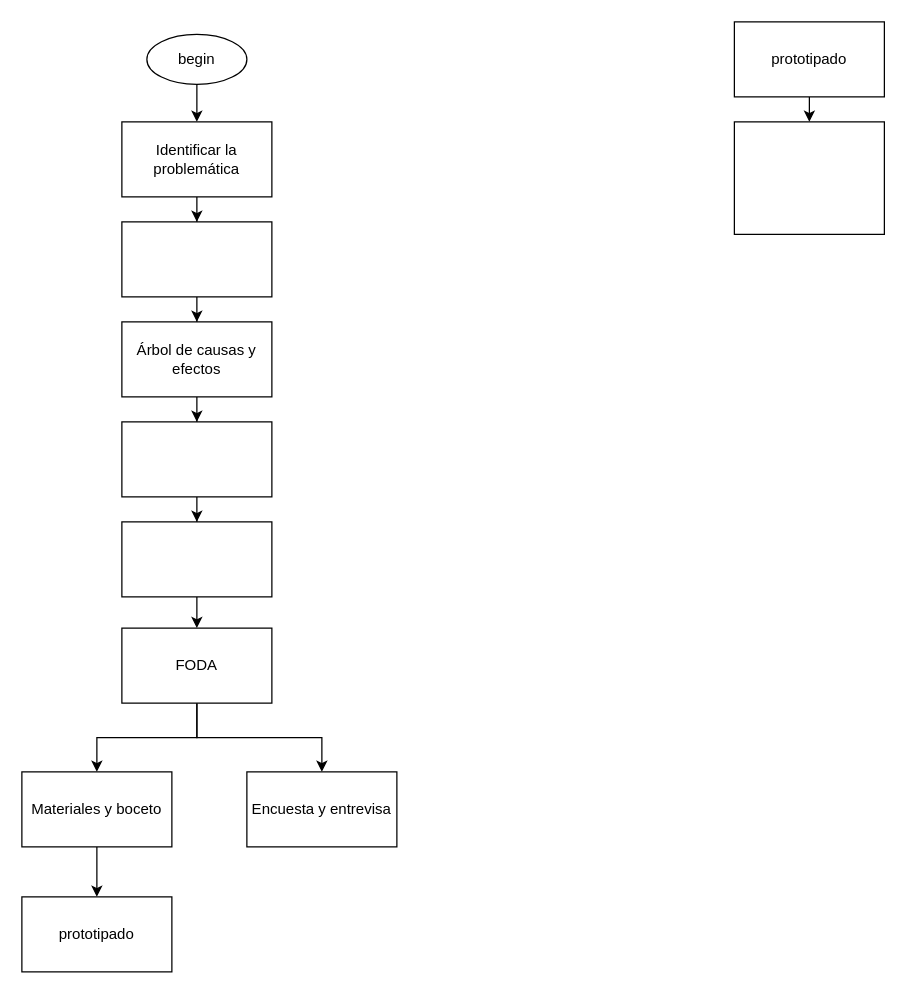
Image size: 906x994. Some labels were removed from this diagram. The shapes that lost their labels are listed below. From the top down, each one's centre as x and y in pixels, then its label:
(808,177): Reconocimiento de modelos de identificacion de objetos (ML)
(196,259): Diseñar el modelo canvas
(196,459): Diagrama de causas y efectos
(196,559): PESTEL
